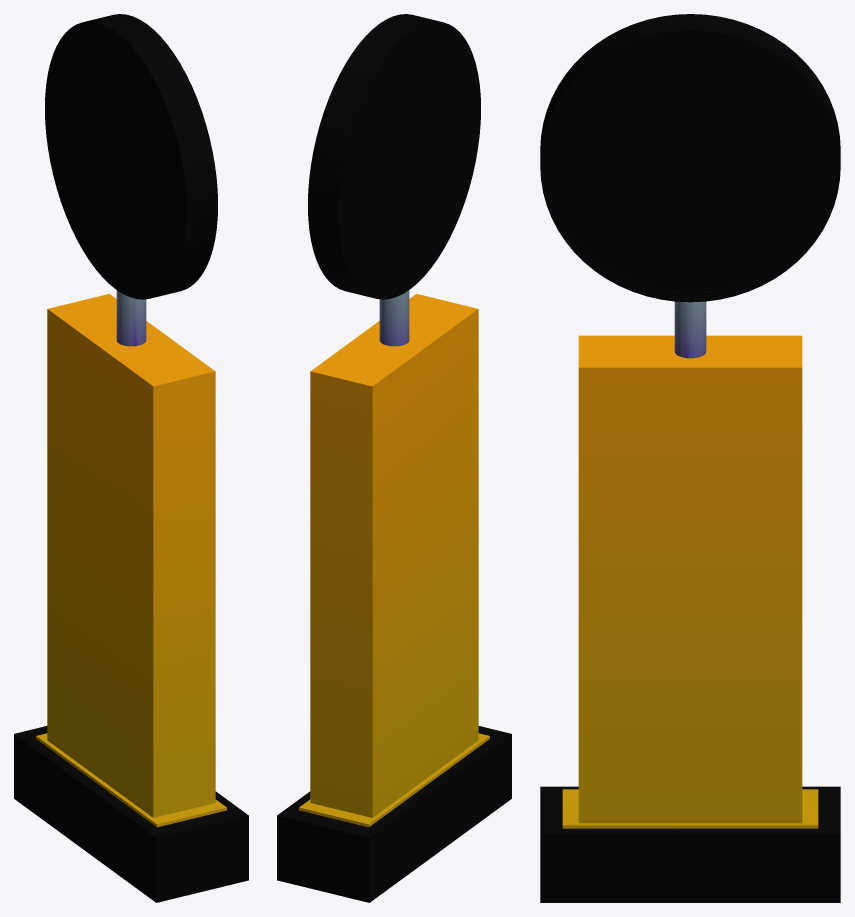
The picture shows the model from 3 angles, left to right: view 1: azimuth 30°, elevation 25°; view 2: azimuth 150°, elevation 25°; view 3: azimuth 270°, elevation 25°; orthographic projection. The views are drawn at different scales.
Visible parts, largest first — view 1: column, disc, plinth, gold_step, stem; view 2: column, disc, plinth, gold_step, stem; view 3: column, disc, plinth, gold_step, stem.
Boxes of the visible parts, <box> form: column: <box>47,294,215,817</box>; disc: <box>45,14,217,299</box>; plinth: <box>14,726,248,902</box>; gold_step: <box>36,733,226,827</box>; stem: <box>116,290,146,346</box>; column: <box>310,294,478,817</box>; disc: <box>308,14,480,299</box>; plinth: <box>277,726,511,902</box>; gold_step: <box>299,733,489,827</box>; stem: <box>379,290,409,346</box>; column: <box>578,335,802,823</box>; disc: <box>540,14,840,302</box>; plinth: <box>540,786,840,902</box>; gold_step: <box>562,789,818,828</box>; stem: <box>674,301,706,358</box>.
Size of the model in its own units: 0.0358 by 0.3 by 0.0953.
